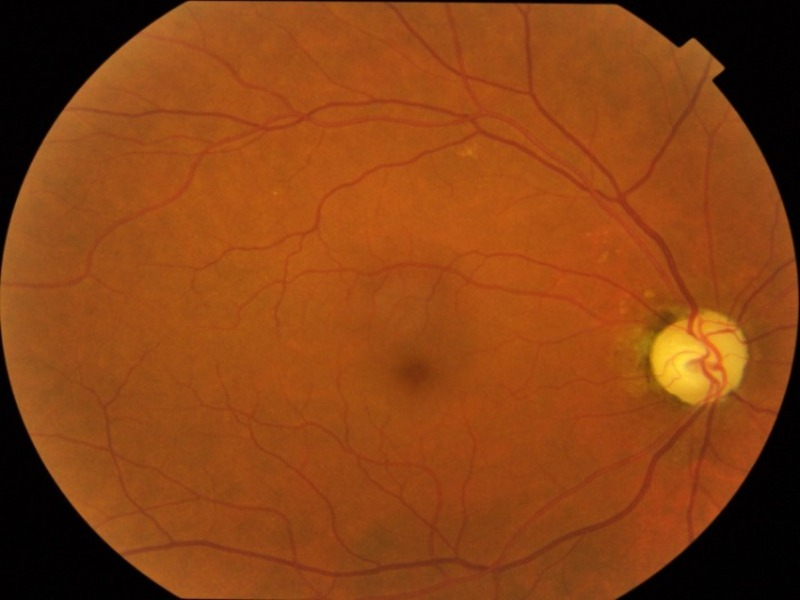Optic Cup: (674, 347, 697, 372)
Optic Disc: (653, 312, 748, 403)
